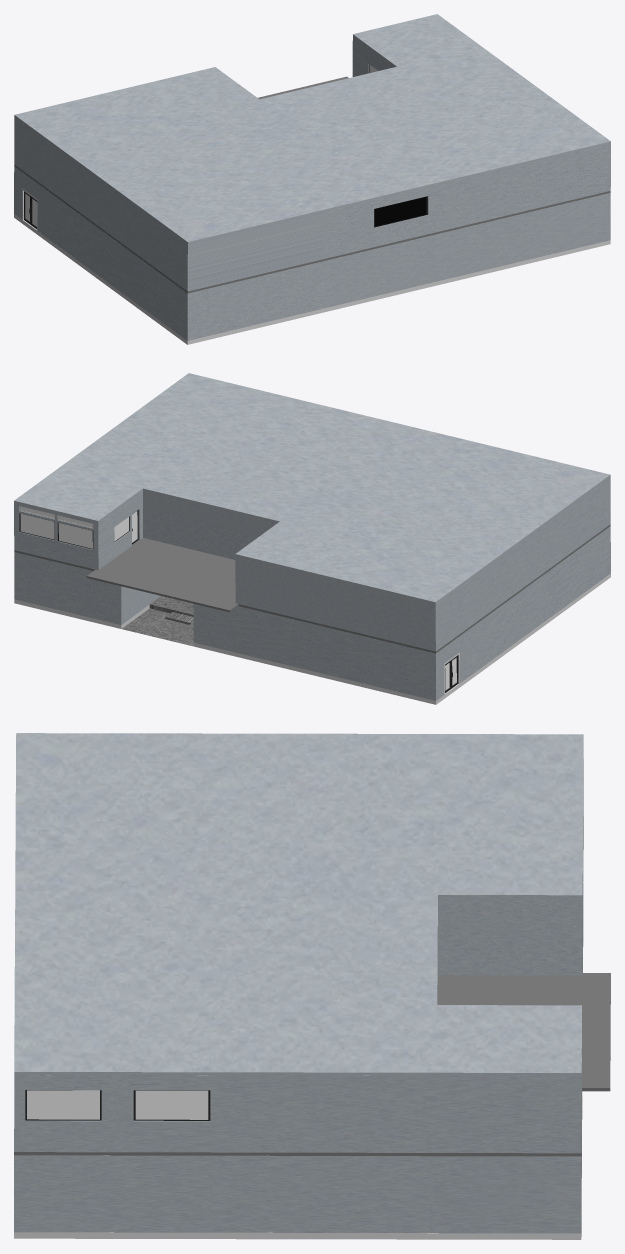
File: deportivo_.glb
3 views of the same model, one above another, from view 1: azimuth 30°, elevation 25°; view 2: azimuth 150°, elevation 25°; view 3: azimuth 270°, elevation 25° (orthographic). The views are drawn at different scales.
Visible parts, largest first — view 1: techo.002, Ventanas_Deportivo, PisoD_PB; view 2: techo.002, Ventanas_Deportivo, PisoD_PB, EntradaD; view 3: techo.002, Ventanas_Deportivo, PisoD_PB.
Part boxes in pixels (x1=…): techo.002: x1=14, y1=14, x2=610, y2=340; Ventanas_Deportivo: x1=14, y1=64, x2=610, y2=293; PisoD_PB: x1=14, y1=214, x2=610, y2=344; techo.002: x1=14, y1=373, x2=610, y2=700; Ventanas_Deportivo: x1=14, y1=506, x2=610, y2=694; PisoD_PB: x1=14, y1=506, x2=610, y2=704; EntradaD: x1=122, y1=596, x2=193, y2=646; techo.002: x1=14, y1=733, x2=583, y2=1233; Ventanas_Deportivo: x1=14, y1=821, x2=610, y2=1156; PisoD_PB: x1=14, y1=943, x2=583, y2=1239.
Bounding box in the file's own units: 0.2276 × 0.0538 × 0.1706.
Materials: 5 (5 with a texture image).
